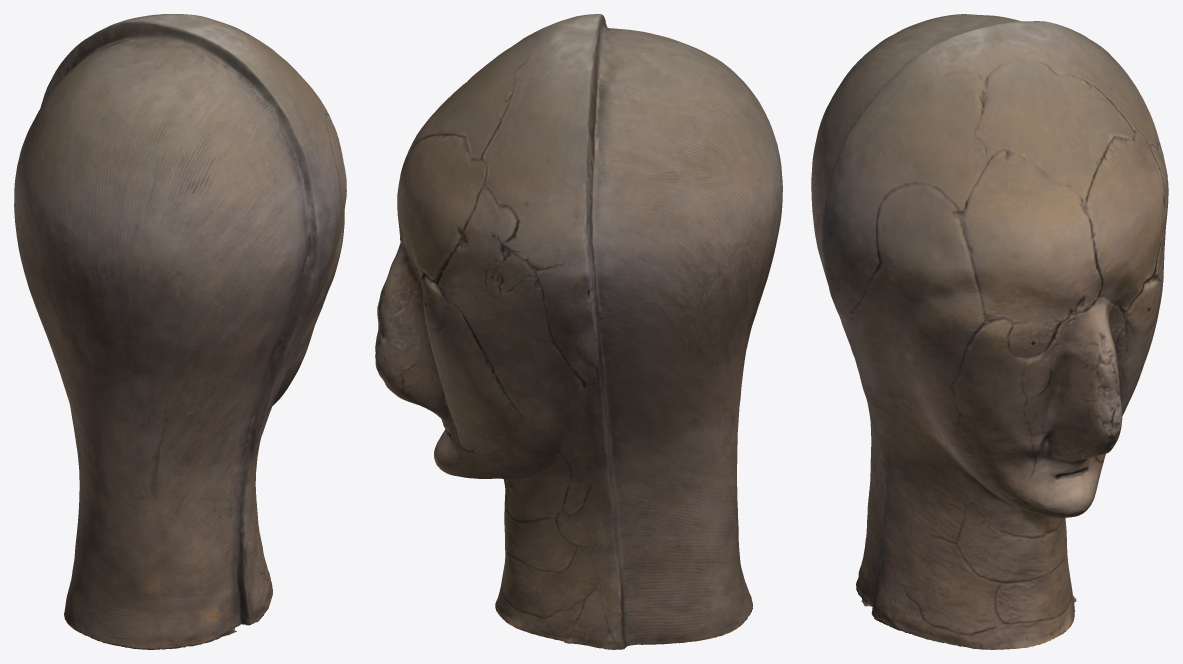
Rendered from shah-cracked-head.glb.
3 renders of one model, left to right at view 1: azimuth 30°, elevation 25°; view 2: azimuth 150°, elevation 25°; view 3: azimuth 270°, elevation 25°, orthographic. The views are drawn at different scales.
Parts seen in each view (by area): view 1: headC_Low; view 2: headC_Low; view 3: headC_Low.
Boxes of the visible parts, box(x1,y1,x2,y2) form: headC_Low: box(14, 14, 346, 649); headC_Low: box(375, 14, 782, 649); headC_Low: box(811, 14, 1168, 649).
Bounding box in the file's own units: 19.32 × 33.09 × 18.41.
1 material, 1 textured.
